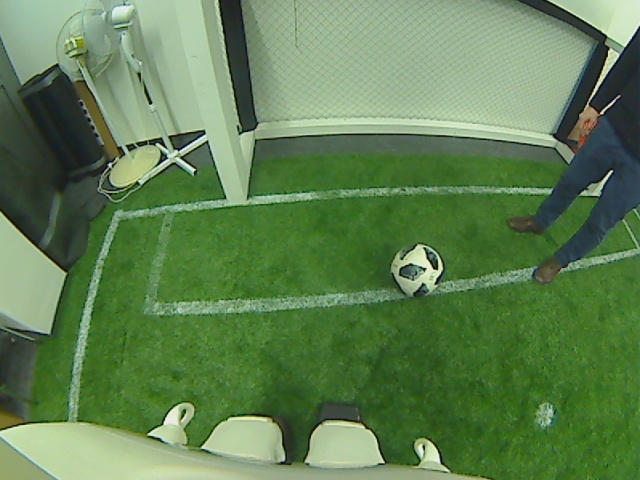ball: (390, 243, 444, 296)
